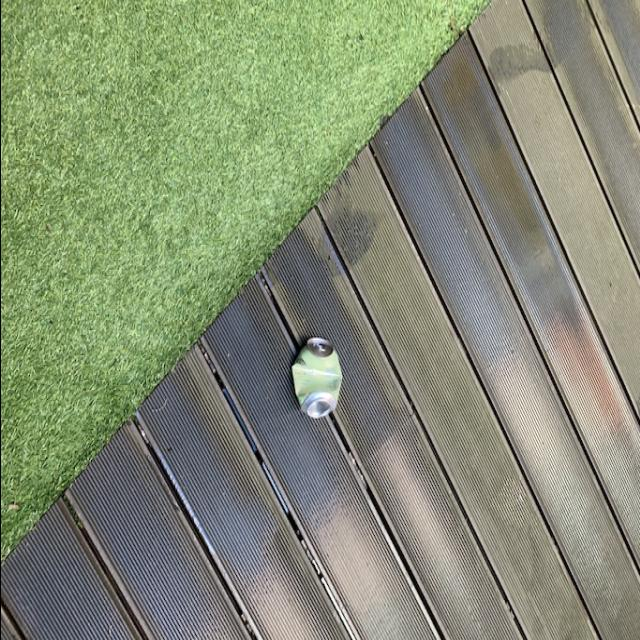Aluminum Can: (288, 333, 340, 422)
